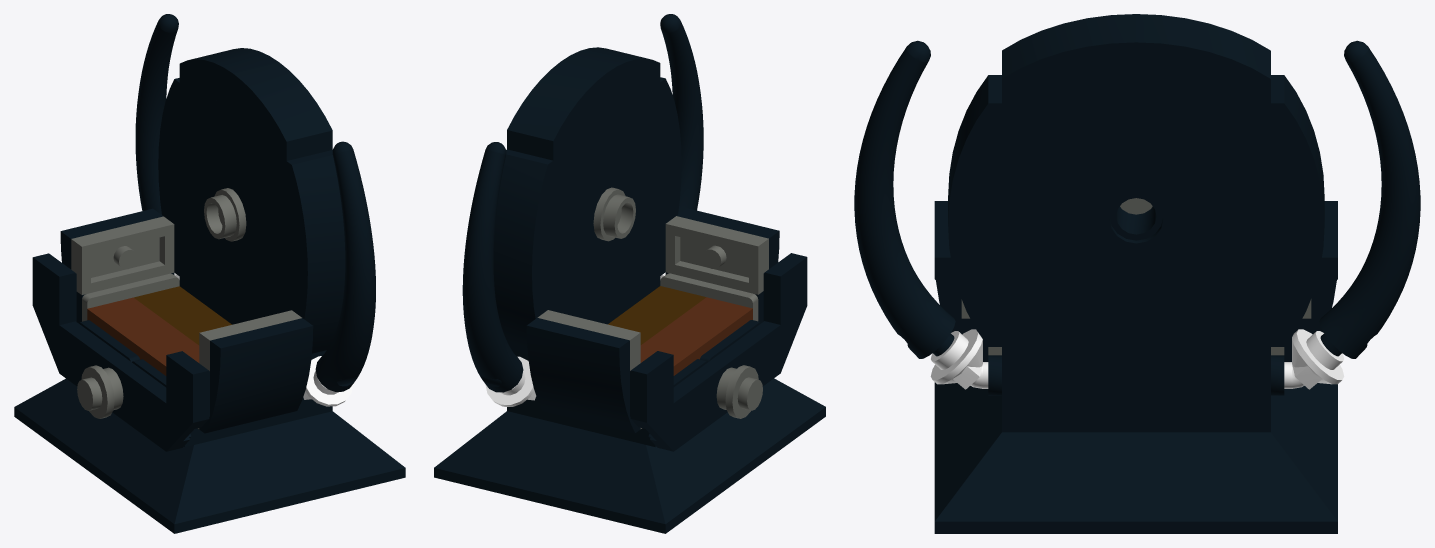
The model's file is wakanda-throne2.glb.
3 views of the same model, side by side, from view 1: azimuth 30°, elevation 25°; view 2: azimuth 150°, elevation 25°; view 3: azimuth 270°, elevation 25° (orthographic). The views are drawn at different scales.
Parts seen in each view (by area): view 1: empty_3; view 2: empty_3; view 3: empty_3.
Boxes of the visible parts, x1,y1,x2,y2 form: empty_3: [14, 14, 405, 533]; empty_3: [434, 14, 825, 533]; empty_3: [854, 14, 1420, 533].
Size of the model in its own units: 104 by 152 by 168.
